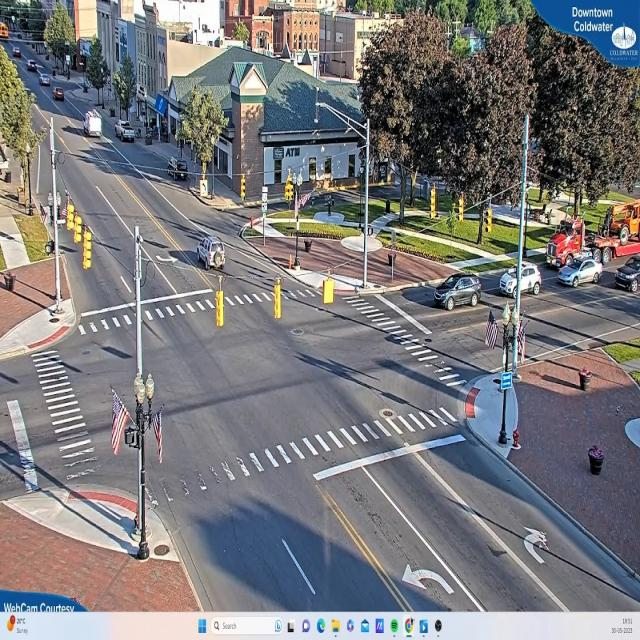car: (434, 274, 482, 314), (497, 263, 542, 296), (195, 232, 227, 274), (557, 258, 601, 288), (614, 256, 639, 292), (54, 88, 65, 101), (40, 76, 53, 86)
